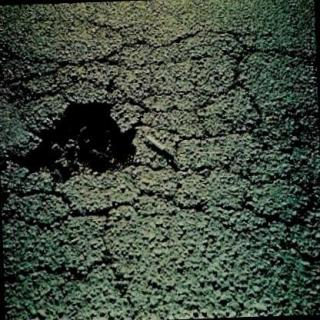pothole: (1, 103, 137, 184)
